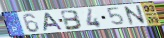4: (87, 8, 102, 29)
5: (105, 6, 126, 27)
6: (23, 12, 42, 34)
A: (43, 12, 65, 32)
B: (60, 9, 84, 31)
N: (122, 4, 148, 27)
